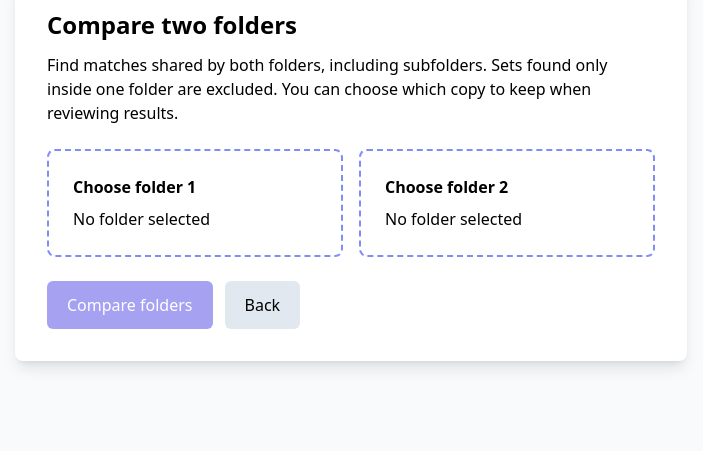
Test: rejects selecting the same folder twice
The width and height of the screenshot is (703, 451).
Click the button "Choose folder 1 No folder selected". click: click(130, 187)
box: top-left (47, 149), bottom-right (343, 257)
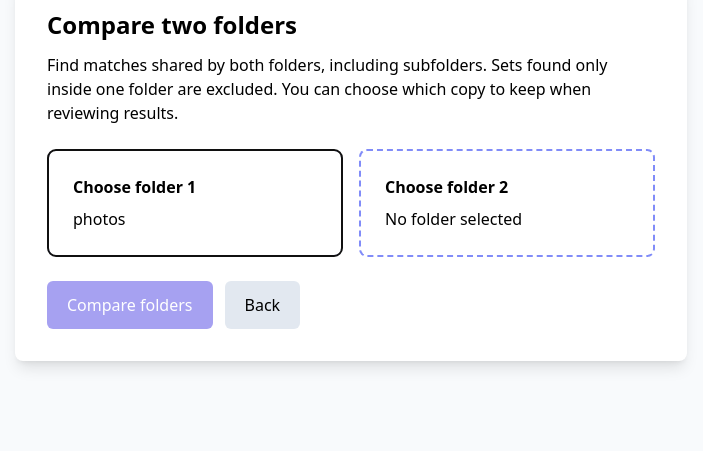
Click the button "Choose folder 2 No folder selected". click: click(442, 187)
box: top-left (359, 149), bottom-right (655, 257)
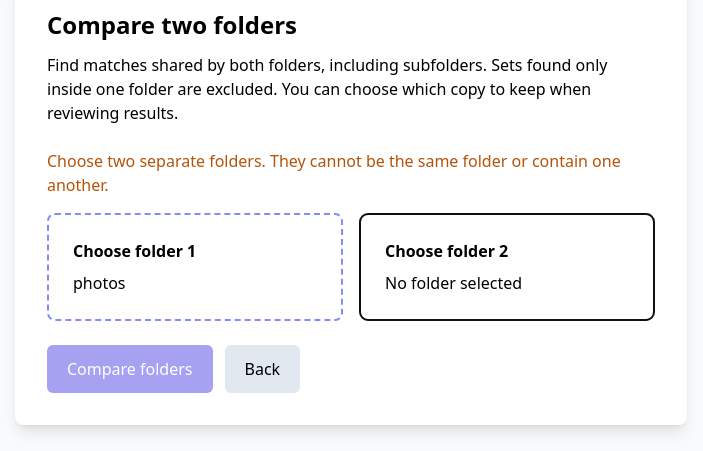
Expected: the button "Compare folders" is disabled, top-left (47, 345), bottom-right (212, 393)
Result: the message shows "Choose two separate folders" at top-left (47, 150), bottom-right (621, 196)
